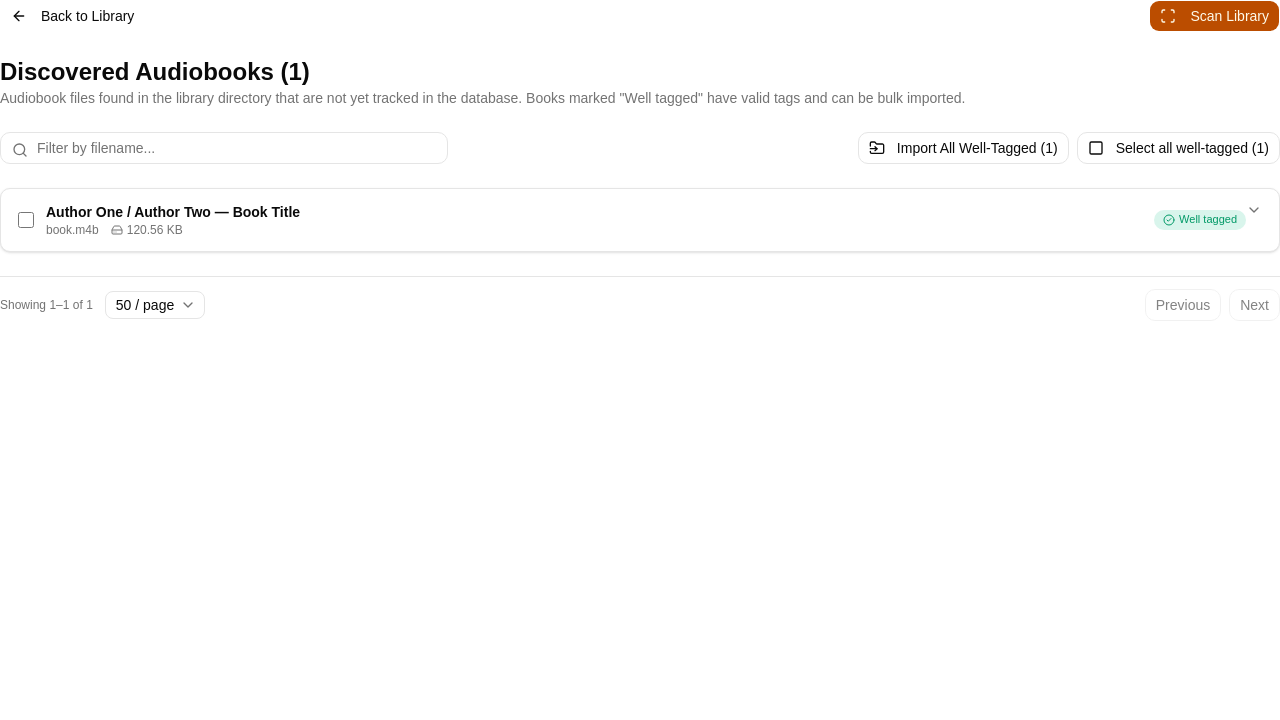
Scenario: DiscoveredAudiobooks › opens DeleteFileDialog when Delete File button is clicked
The width and height of the screenshot is (1280, 720).
Click the text "Book Title" at (173, 212), box left=46, top=204, right=300, bottom=220
(page scrolled)
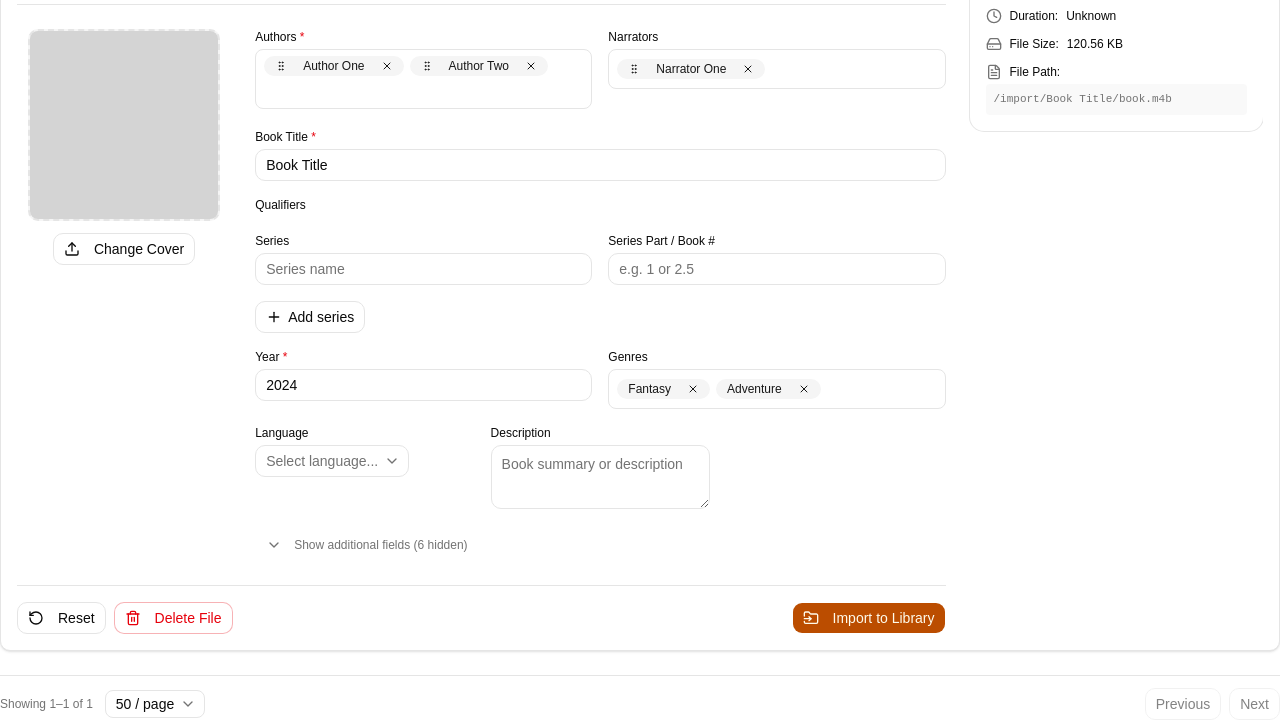
Click the button "Delete File" at (173, 618), box left=114, top=602, right=232, bottom=634
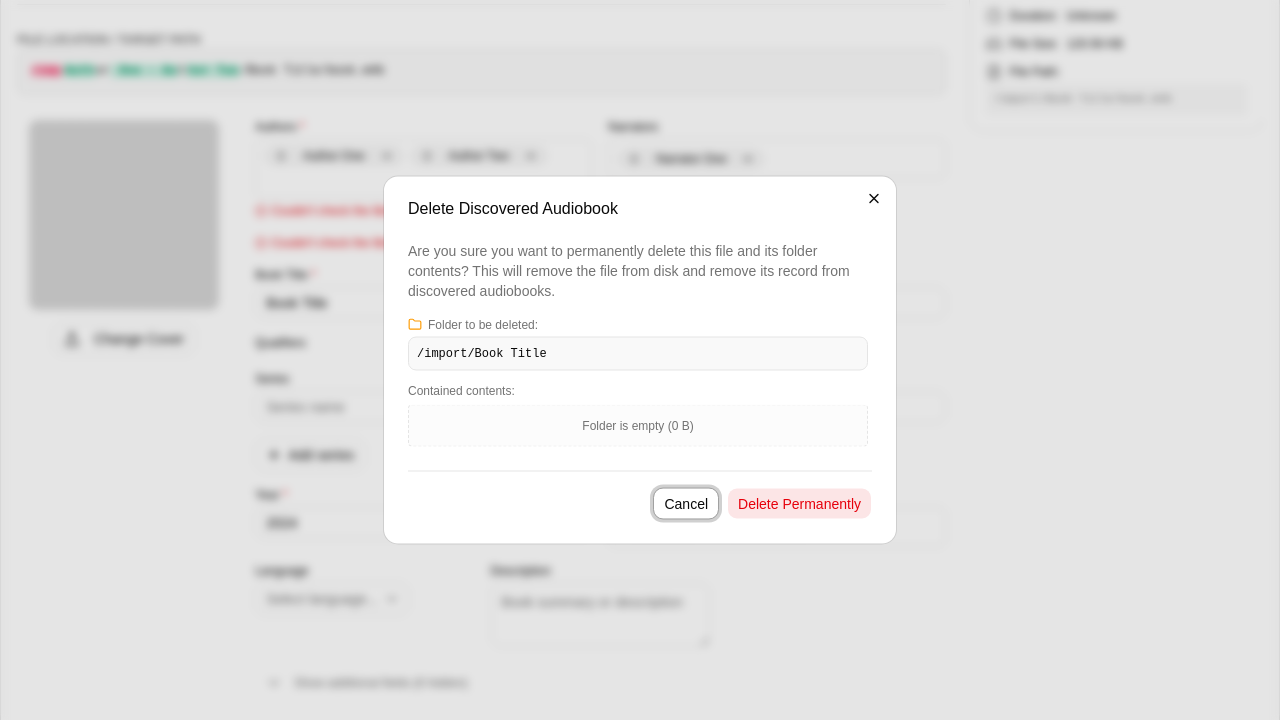
Expected: the heading "Delete Discovered Audiobook" is shown, left=408, top=200, right=618, bottom=216
